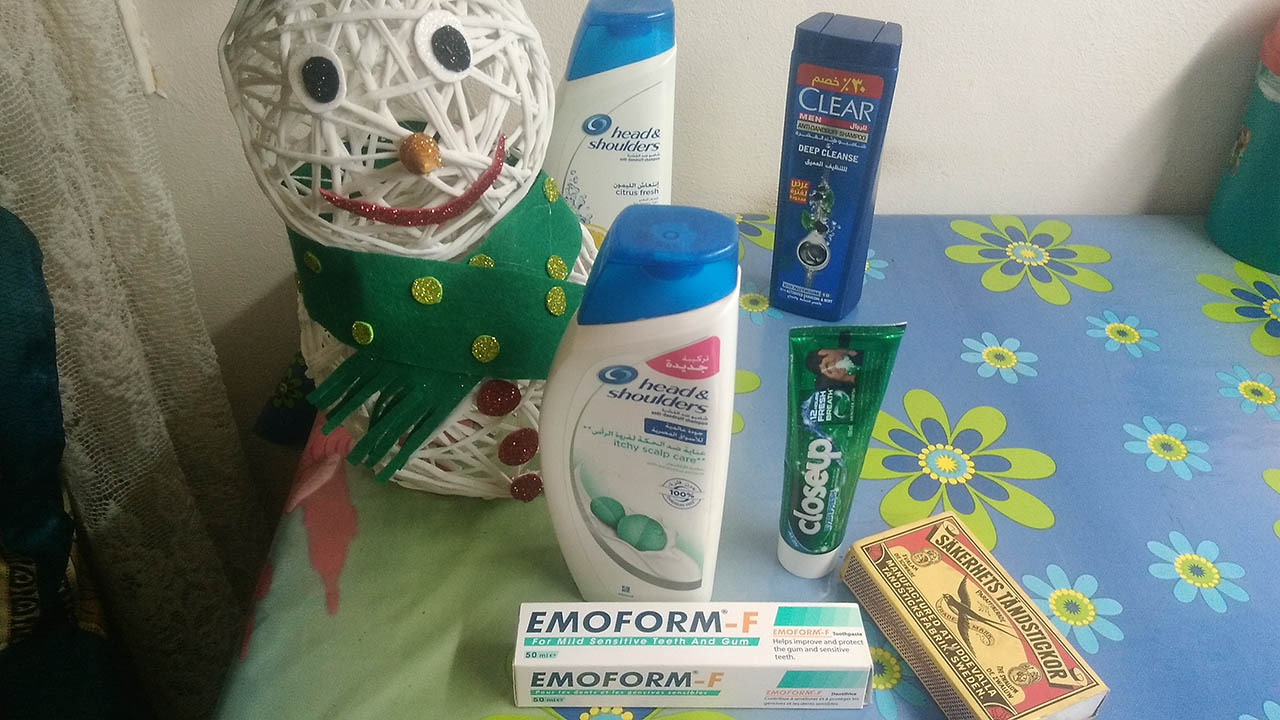Shampoo-Clear 4.7$: (762, 16, 915, 324)
Toothpaste-Closeup 3.04$: (787, 318, 861, 565)
Toothpaste-F 1.5$: (502, 599, 882, 714)
match-sticks .90$: (856, 515, 1104, 720)
shampoo-Lemon 3.5$: (558, 1, 677, 258)
shampoo-green 4.5$: (542, 214, 749, 606)
